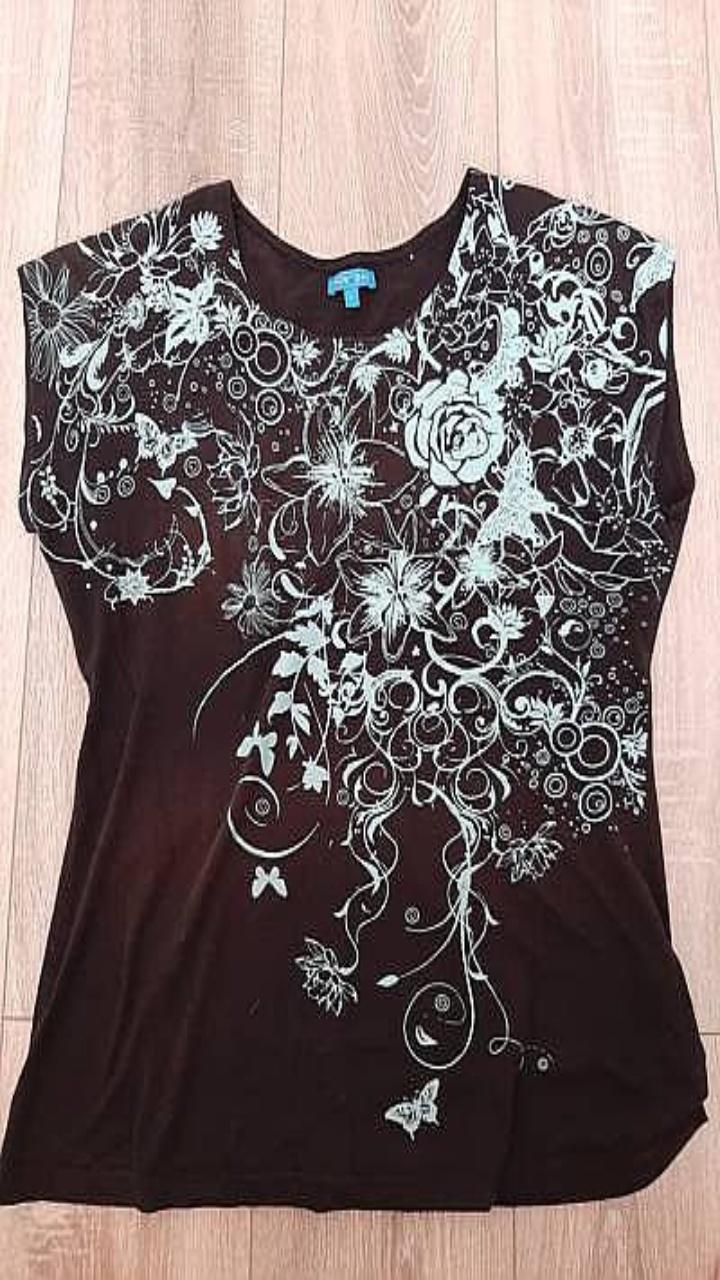T-Shirt: (0, 167, 707, 1209)
